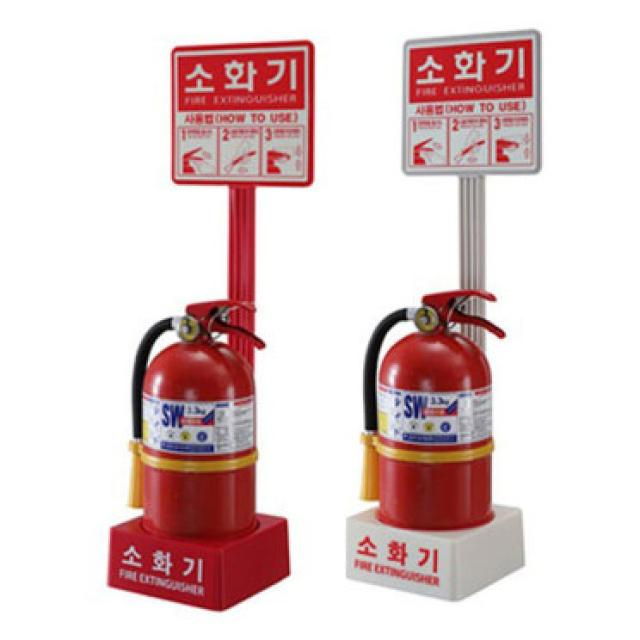pressure gauge: (179, 315, 200, 341), (415, 308, 439, 330)
